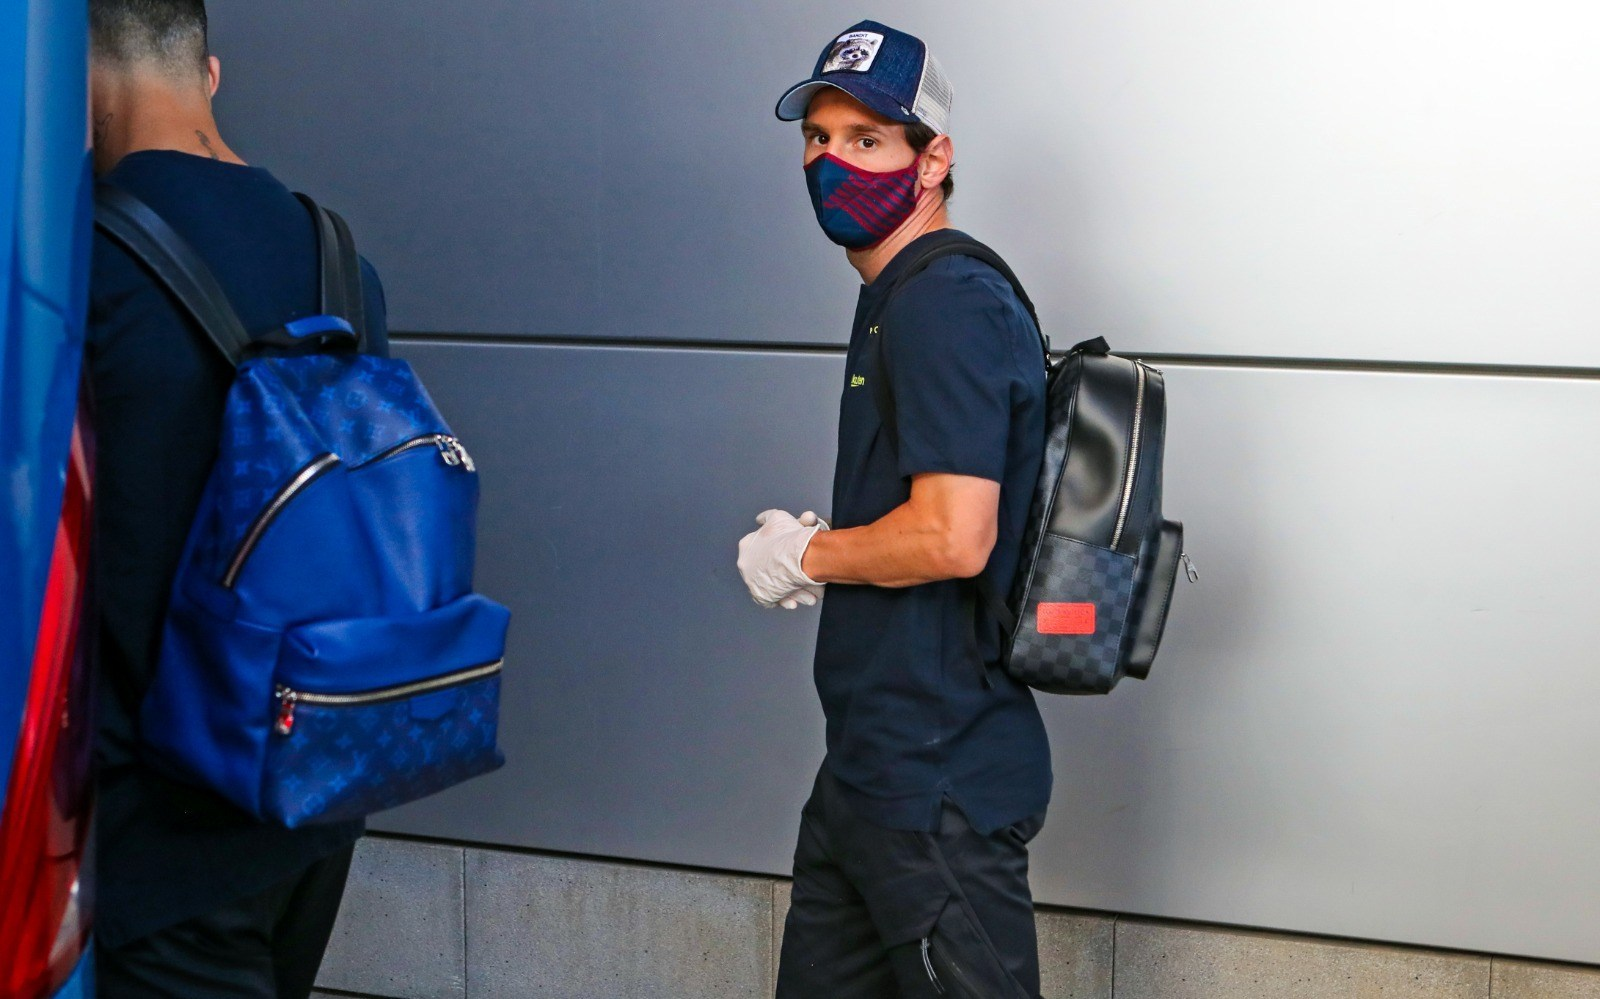barbijo: (788, 135, 934, 253)
